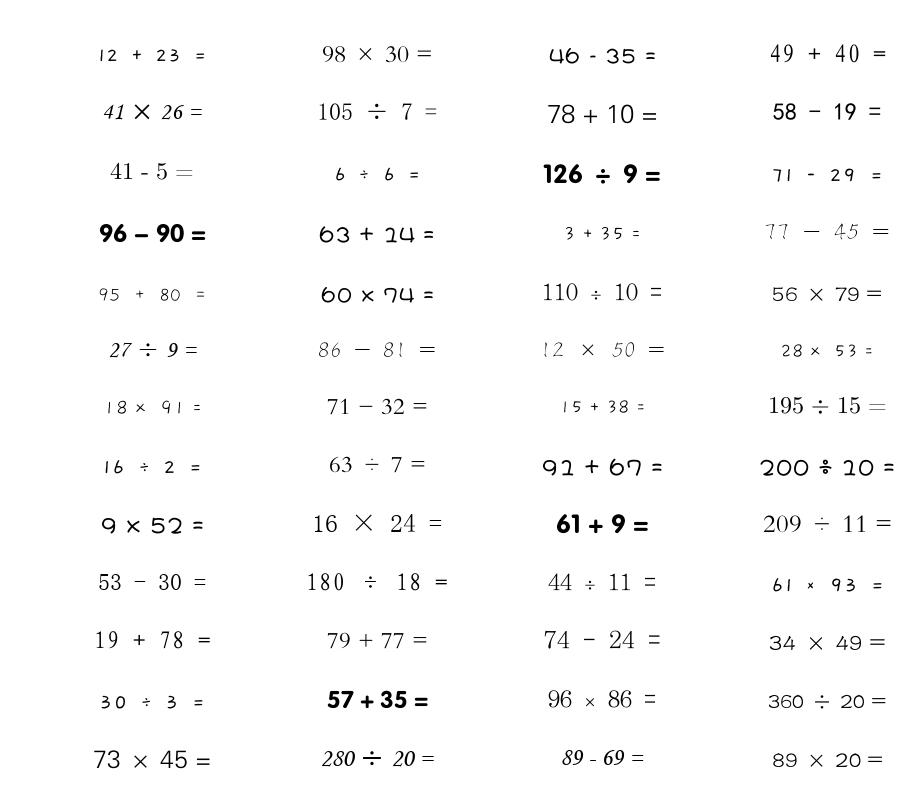MQ: (306, 573, 448, 591), (543, 164, 661, 184), (312, 514, 442, 532), (763, 515, 892, 533), (759, 459, 895, 476), (93, 750, 211, 769), (769, 44, 886, 63), (544, 630, 661, 649), (547, 104, 658, 124), (542, 458, 663, 476), (542, 283, 662, 301), (764, 223, 890, 240), (768, 396, 887, 414), (99, 223, 206, 243), (94, 631, 211, 649), (317, 103, 437, 120), (540, 342, 665, 358), (319, 226, 435, 243), (548, 573, 656, 591), (548, 690, 656, 708), (321, 286, 434, 303), (327, 690, 428, 709), (318, 342, 436, 358), (322, 46, 433, 63), (769, 635, 886, 651), (556, 514, 649, 534), (773, 103, 881, 120), (320, 751, 434, 767), (549, 47, 656, 64), (768, 694, 886, 709), (101, 517, 204, 534), (98, 574, 206, 590), (327, 398, 428, 415), (327, 632, 428, 649), (329, 456, 426, 473), (102, 104, 202, 120), (770, 578, 884, 592), (771, 168, 883, 182), (772, 753, 883, 767), (772, 287, 882, 301), (98, 288, 207, 302), (110, 162, 194, 180), (103, 400, 202, 415), (99, 695, 205, 709), (108, 342, 197, 358), (98, 49, 207, 62), (103, 460, 202, 474), (780, 344, 874, 358), (560, 750, 644, 765), (333, 167, 421, 181), (559, 400, 646, 414), (563, 226, 641, 241)
